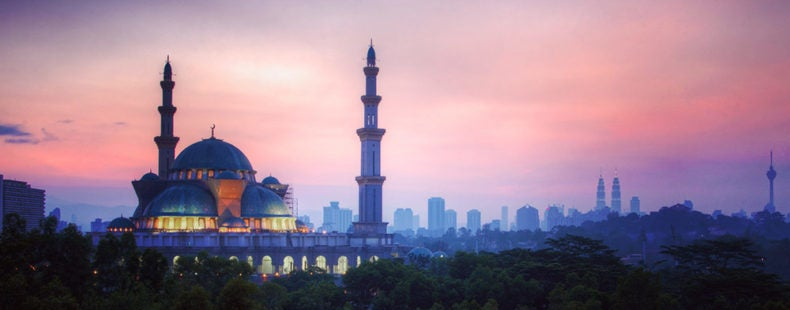Mosque: (97, 32, 409, 262)
